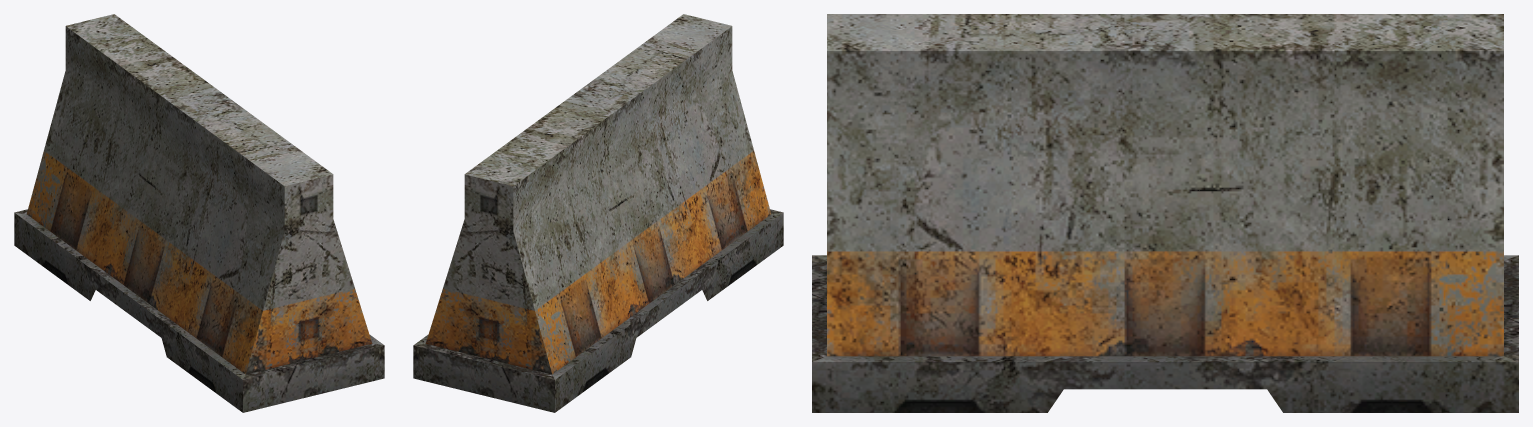
Rendered from road_barrier 2.FBX.
The picture shows the model from 3 angles, left to right: view 1: azimuth 30°, elevation 25°; view 2: azimuth 150°, elevation 25°; view 3: azimuth 270°, elevation 25°; orthographic projection. The views are drawn at different scales.
Parts seen in each view (by area): view 1: polySurface2; view 2: polySurface2; view 3: polySurface2.
Part boxes in pixels (x1,y1,x2,y2): polySurface2: [14, 14, 384, 412]; polySurface2: [413, 14, 783, 412]; polySurface2: [812, 14, 1518, 412].
Bounding box in the file's own units: 0.2063 × 0.2949 × 0.5772.
